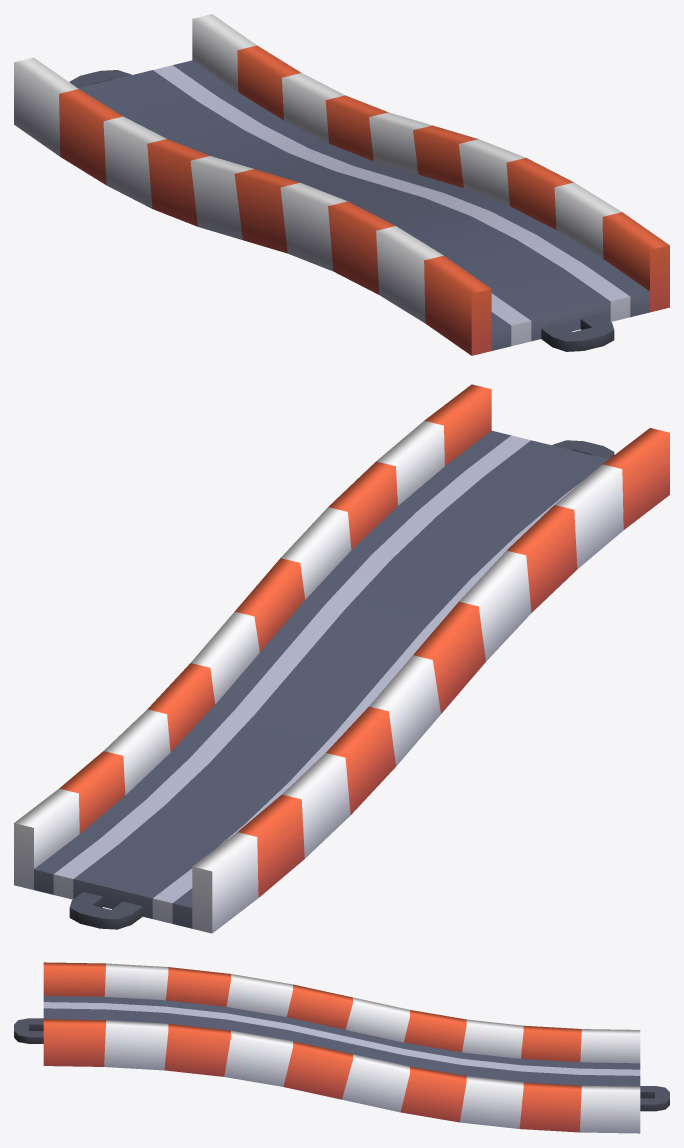
Rendered from kenney-toy-car-track-road-narrow-straight-hill-complete-half.glb.
The picture shows the model from 3 angles, top to bottom: view 1: azimuth 30°, elevation 25°; view 2: azimuth 150°, elevation 25°; view 3: azimuth 270°, elevation 25°; orthographic projection. The views are drawn at different scales.
Visible parts, largest first — view 1: track-road-narrow-straight-hill-complete-half; view 2: track-road-narrow-straight-hill-complete-half; view 3: track-road-narrow-straight-hill-complete-half.
Part boxes in pixels (box(x1,y1,x2,y2)): track-road-narrow-straight-hill-complete-half: box(14, 14, 669, 355); track-road-narrow-straight-hill-complete-half: box(14, 384, 669, 933); track-road-narrow-straight-hill-complete-half: box(14, 962, 669, 1133).
Bounding box in the file's own units: 1 × 0.7998 × 4.4.
1 material, 1 textured.
